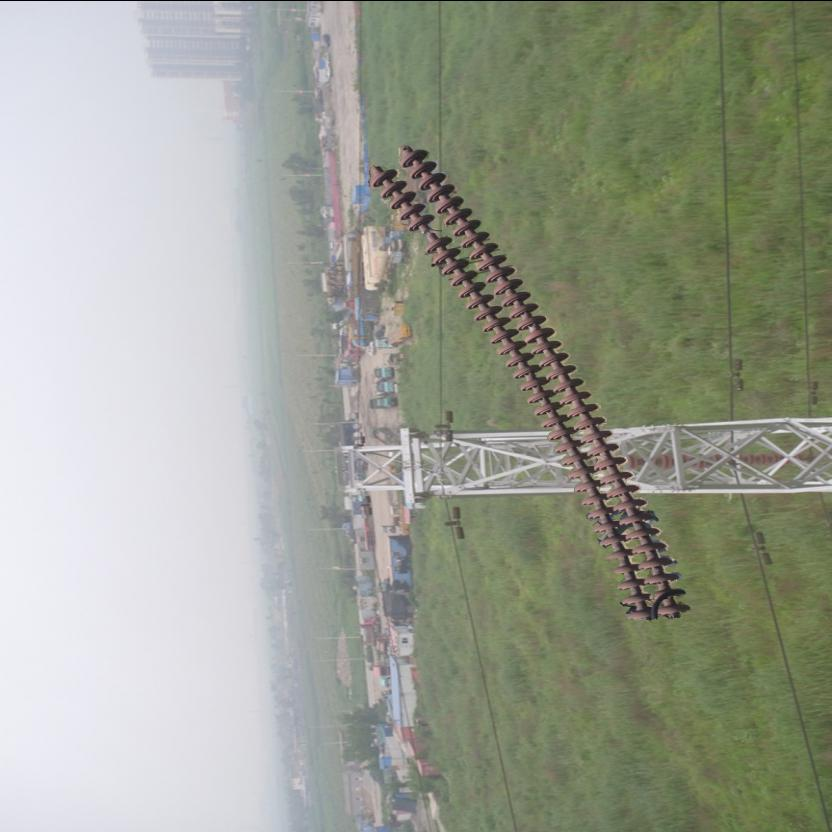defect: (399, 214, 452, 256)
